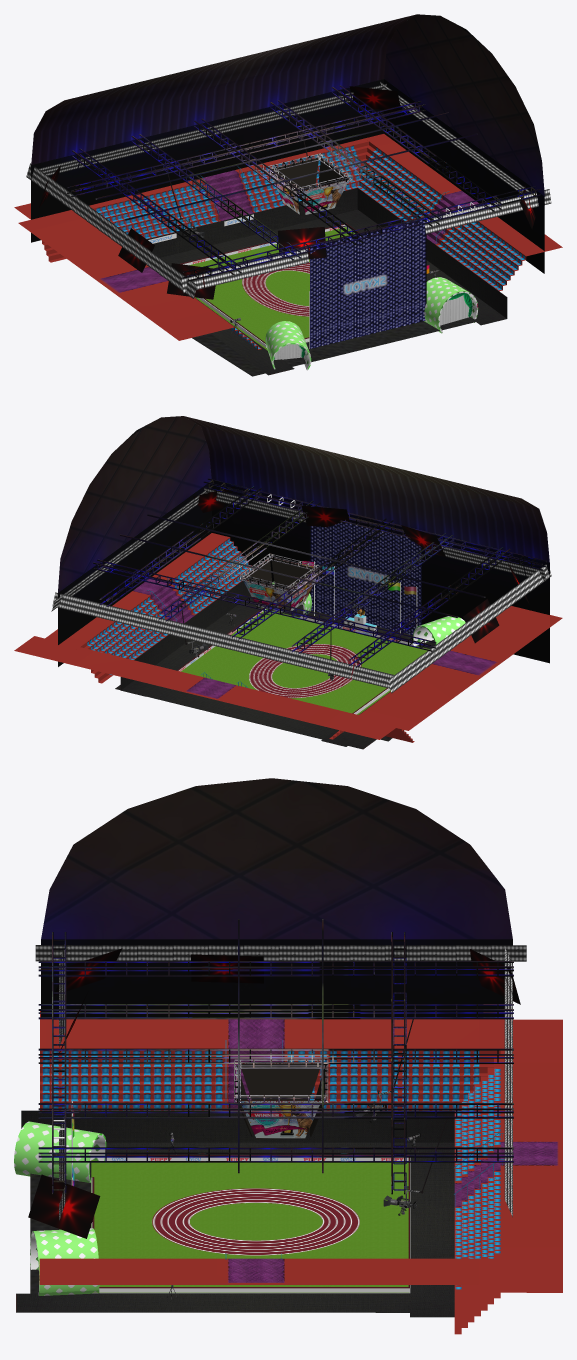
File: stadium.fbx
3 renders of one model, top to bottom at view 1: azimuth 30°, elevation 25°; view 2: azimuth 150°, elevation 25°; view 3: azimuth 270°, elevation 25°, orthographic. The views are drawn at different scales.
Parts seen in each view (by area): view 1: polySurface625, pCylinder7, polySurface381, polySurface663, polySurface556, polySurface482, polySurface664, polySurface558, polySurface662, polySurface559, polySurface483, enter:pCylinder6 (+1 smaller); view 2: polySurface625, pCylinder7, polySurface381, polySurface556, polySurface558, polySurface663, polySurface482, polySurface664, polySurface662, polySurface559, polySurface765, enter:pCylinder6 (+1 smaller); view 3: polySurface625, pCylinder7, polySurface482, polySurface558, polySurface381, polySurface556, polySurface559, polySurface664, polySurface662, polySurface557, enter:pCylinder6, polySurface483 (+1 smaller).
Boxes of the visible parts, bbox=[...] form: polySurface625: bbox=[14, 134, 562, 376]; pCylinder7: bbox=[31, 14, 544, 196]; polySurface381: bbox=[31, 79, 544, 273]; polySurface663: bbox=[310, 219, 426, 348]; polySurface556: bbox=[26, 81, 551, 298]; polySurface482: bbox=[71, 85, 501, 274]; polySurface664: bbox=[67, 101, 540, 281]; polySurface558: bbox=[190, 227, 354, 350]; polySurface662: bbox=[39, 86, 535, 299]; polySurface559: bbox=[242, 262, 309, 316]; polySurface483: bbox=[424, 277, 478, 333]; enter:pCylinder6: bbox=[265, 321, 311, 370]; polySurface625: bbox=[14, 533, 562, 749]; pCylinder7: bbox=[58, 416, 549, 592]; polySurface381: bbox=[58, 481, 549, 666]; polySurface556: bbox=[51, 488, 551, 693]; polySurface558: bbox=[181, 609, 429, 714]; polySurface663: bbox=[309, 522, 421, 635]; polySurface482: bbox=[99, 486, 510, 667]; polySurface664: bbox=[93, 478, 546, 651]; polySurface662: bbox=[193, 486, 529, 643]; polySurface559: bbox=[249, 643, 361, 698]; polySurface765: bbox=[181, 561, 417, 732]; enter:pCylinder6: bbox=[413, 616, 465, 645]; polySurface625: bbox=[16, 1011, 562, 1334]; pCylinder7: bbox=[41, 778, 512, 939]; polySurface482: bbox=[38, 961, 513, 1162]; polySurface558: bbox=[91, 1160, 409, 1292]; polySurface381: bbox=[41, 939, 512, 1017]; polySurface556: bbox=[35, 944, 526, 1220]; polySurface559: bbox=[151, 1188, 359, 1255]; polySurface664: bbox=[52, 919, 406, 1194]; polySurface662: bbox=[28, 948, 520, 1238]; polySurface557: bbox=[91, 1155, 410, 1293]; enter:pCylinder6: bbox=[14, 1121, 106, 1182]; polySurface483: bbox=[30, 1228, 99, 1295].
Bounding box in the file's own units: 1.02 × 0.5443 × 0.8407.
